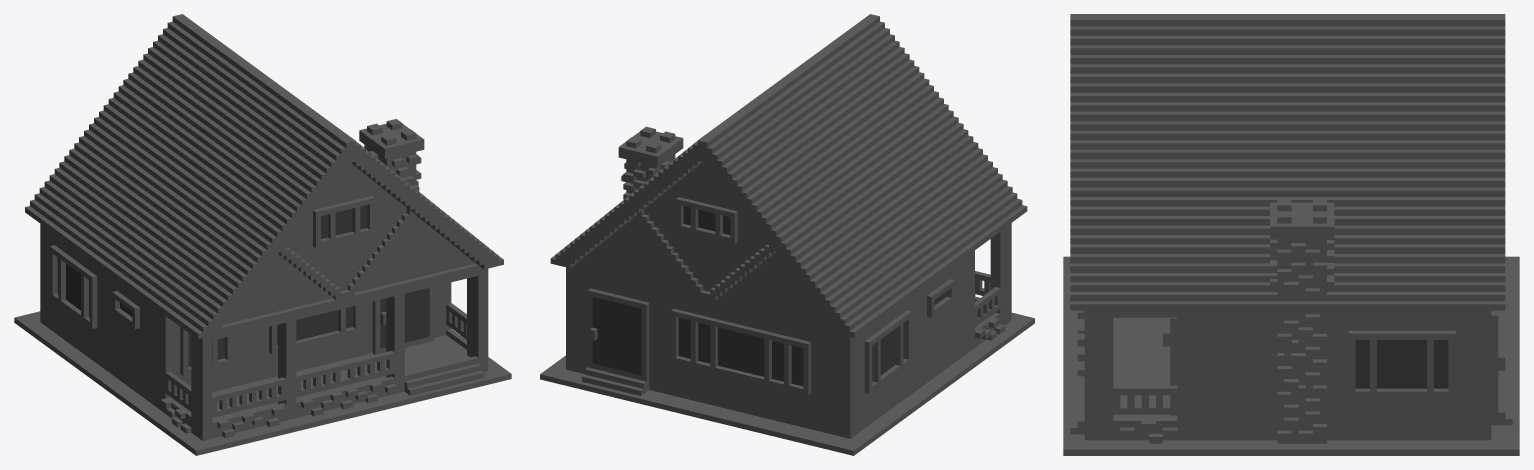
Rendered from bld_house3a.obj.
The picture shows the model from 3 angles, left to right: view 1: azimuth 30°, elevation 25°; view 2: azimuth 150°, elevation 25°; view 3: azimuth 270°, elevation 25°; orthographic projection. The views are drawn at different scales.
Size of the model in its own units: 64 by 53 by 64.
